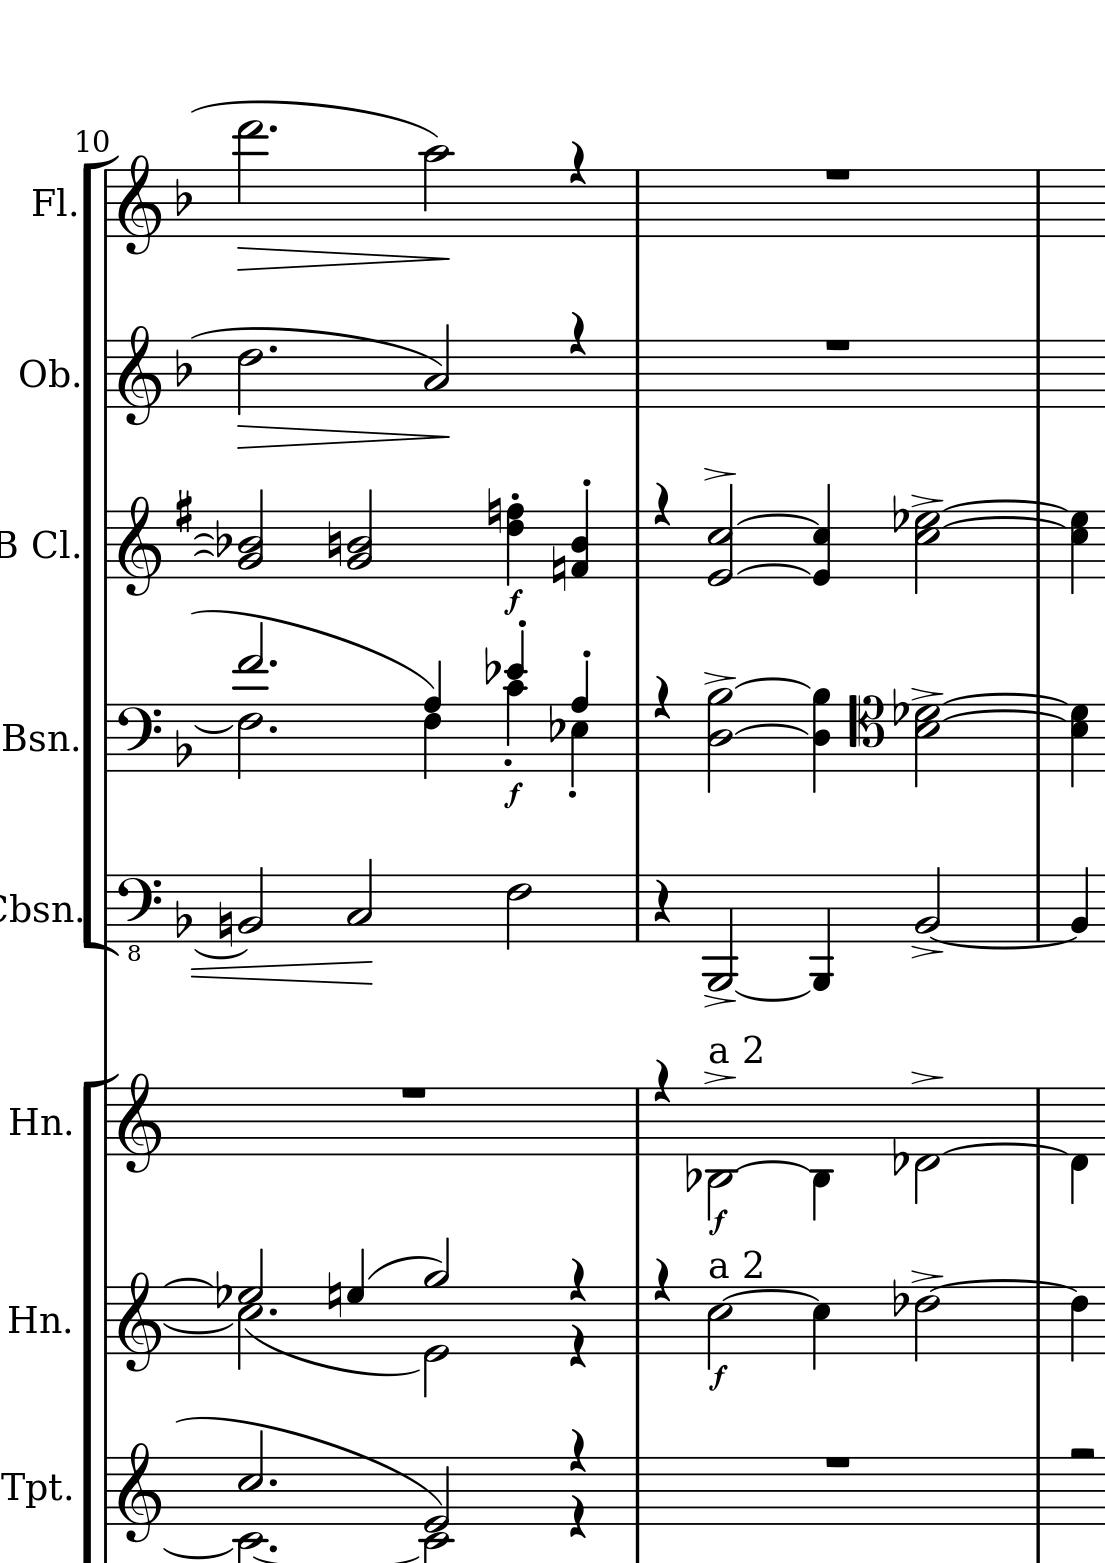0: (91, 126, 109, 155)
1: (74, 126, 88, 157)
2: (740, 1034, 764, 1066), (740, 1248, 764, 1280)
2_-1: (912, 1085, 941, 1205)
2_-3: (706, 1086, 740, 1221)
2_-5: (704, 872, 737, 991)
2_0: (421, 1286, 448, 1399)
2_0_5: (708, 483, 735, 587)
2_10: (419, 142, 452, 239)
2_12: (232, 118, 265, 240)
2_2: (912, 863, 941, 946), (236, 863, 264, 944)
2_2_4: (347, 488, 376, 581), (238, 488, 265, 581)
2_3: (344, 857, 374, 944), (422, 322, 451, 410)
2_4_9: (706, 686, 733, 793)
2_5: (706, 1286, 733, 1369)
2_5_7: (236, 1250, 265, 1370), (914, 701, 940, 788), (914, 509, 940, 596)
2_6: (234, 340, 264, 417), (912, 1286, 942, 1363), (503, 873, 531, 952)
2_6_13: (233, 621, 268, 780)
2_9: (423, 1237, 452, 1354)
4_-1: (1069, 1082, 1088, 1205)
4_-3: (808, 1083, 834, 1225)
4_-5: (807, 872, 835, 991)
4_0_5: (811, 482, 832, 588)
4_10_12: (502, 663, 529, 773)
4_1_4: (570, 490, 593, 580)
4_2: (1069, 863, 1089, 944)
4_4_9: (811, 688, 832, 793)
4_5: (811, 1286, 831, 1373)
4_5_7: (1069, 509, 1089, 596), (1070, 702, 1089, 789)
4_5_8: (570, 661, 591, 790)
4_6: (1068, 1284, 1089, 1363)
4_6_8: (423, 659, 442, 779), (505, 503, 525, 585)
4_7: (344, 1245, 367, 1356)
Accent_above: (906, 1266, 944, 1286), (700, 668, 735, 688), (909, 1069, 944, 1088), (700, 465, 735, 483), (700, 993, 738, 1009), (909, 492, 942, 509), (908, 685, 944, 702), (908, 944, 944, 960), (700, 1070, 735, 1087)
Bracke: (79, 152, 121, 955)
Bsn: (1, 718, 68, 761)
Cl: (30, 523, 74, 567)
Diminuendo_hairpin: (237, 245, 448, 271), (239, 425, 454, 448)
Fclef: (116, 703, 161, 775)
Fl: (28, 183, 71, 222)
Flat: (172, 346, 193, 389), (172, 897, 193, 940), (890, 686, 909, 732), (172, 176, 191, 219), (214, 1268, 231, 1314), (891, 493, 909, 536), (482, 645, 500, 686), (173, 728, 191, 769), (547, 703, 564, 744), (213, 518, 230, 560), (684, 1152, 701, 1193), (890, 1278, 906, 1320), (890, 1136, 906, 1177)
Gclef: (116, 494, 165, 598), (117, 1271, 165, 1375), (116, 152, 163, 257), (116, 1441, 163, 1546), (116, 324, 163, 427), (117, 1071, 161, 1176)
Hn: (6, 1104, 65, 1141), (5, 1300, 61, 1337)
Lower_Fclef: (115, 874, 164, 965)
Natural: (216, 900, 234, 948), (325, 1270, 342, 1320), (486, 486, 502, 535), (325, 520, 342, 568), (550, 543, 566, 593)
Ob: (16, 352, 71, 393)
Rests1: (396, 1082, 429, 1103), (822, 335, 854, 355), (822, 1452, 853, 1472), (822, 165, 853, 184)
Rests2: (1064, 1443, 1098, 1464)
Rests4: (651, 877, 674, 926), (651, 480, 673, 529), (651, 673, 673, 721), (566, 1324, 587, 1370), (651, 1256, 671, 1303), (567, 1494, 587, 1541), (567, 140, 587, 187), (568, 311, 588, 358), (568, 1257, 587, 1303), (568, 1428, 586, 1473), (653, 1058, 671, 1103)
Sharp: (173, 488, 194, 535)
Single_barline: (627, 1458, 648, 1524), (97, 170, 117, 237), (97, 706, 117, 773), (627, 170, 647, 236), (627, 341, 647, 407), (97, 1087, 116, 1156), (1028, 1088, 1048, 1156), (97, 875, 116, 942), (1028, 341, 1048, 407), (627, 1089, 646, 1155), (1028, 1288, 1048, 1354), (1028, 1458, 1048, 1524), (1028, 875, 1048, 940), (99, 1457, 117, 1525), (98, 511, 116, 578), (628, 511, 646, 578), (628, 704, 646, 771), (99, 1287, 117, 1354), (1028, 170, 1046, 236), (628, 1287, 646, 1353), (628, 875, 645, 940), (99, 340, 115, 407)
Slur: (188, 326, 445, 370), (193, 100, 439, 139), (243, 1327, 419, 1376), (930, 935, 1074, 950), (929, 1278, 1077, 1292), (366, 1254, 440, 1280), (944, 515, 1067, 530), (944, 707, 1067, 721), (944, 1142, 1066, 1156), (947, 496, 1070, 509), (946, 692, 1066, 704), (732, 677, 811, 691), (720, 1288, 822, 1299), (733, 990, 811, 1003), (738, 514, 822, 526), (160, 1323, 234, 1336), (738, 564, 812, 576), (734, 724, 811, 734), (735, 1160, 812, 1170), (195, 948, 249, 959), (161, 1276, 213, 1287), (191, 724, 236, 735), (193, 547, 213, 558), (193, 532, 216, 541)
Tensor_Cclef: (844, 691, 884, 775)
Tpt: (1, 1467, 63, 1510)
dot: (265, 1475, 281, 1490), (265, 121, 279, 136), (265, 722, 279, 737), (265, 343, 279, 356), (265, 1541, 279, 1555), (265, 657, 277, 670), (265, 1305, 277, 1318)
f: (501, 781, 523, 810), (708, 1208, 728, 1238), (707, 1364, 728, 1392), (502, 588, 523, 615)
